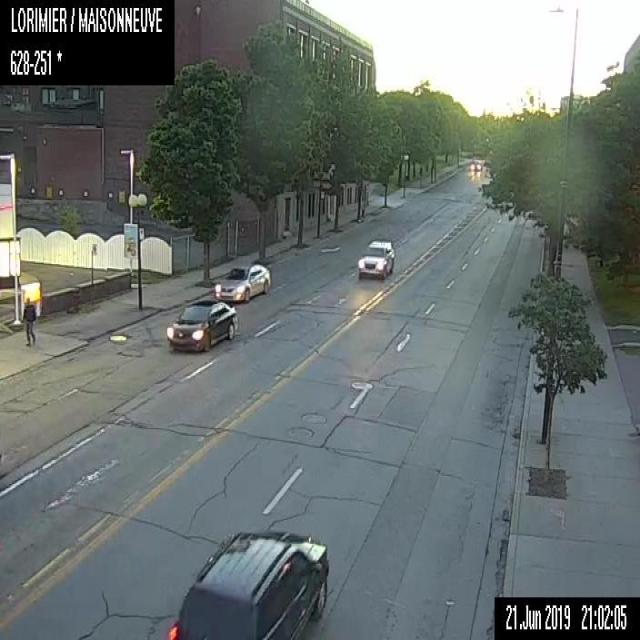pedestrian: (21, 296, 35, 348)
vehicle: (166, 525, 328, 639), (166, 300, 236, 350), (213, 263, 270, 301), (356, 238, 396, 278), (468, 157, 482, 170)
